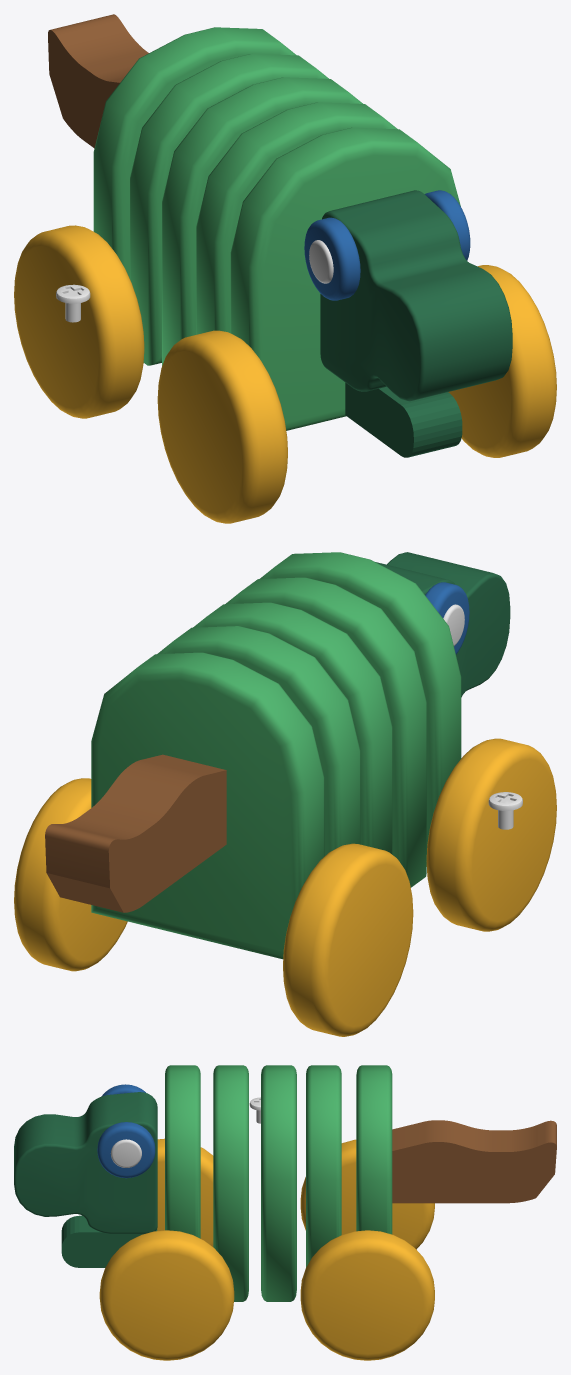
3 renders of one model, top to bottom at view 1: azimuth 30°, elevation 25°; view 2: azimuth 150°, elevation 25°; view 3: azimuth 270°, elevation 25°, orthographic. The views are drawn at different scales.
Visible parts, largest first — view 1: Cube.334, Cube.329, Cylinder.049, Cylinder.051, Cube.331, Cube.332, Cube.333, Cube.330, Cylinder.048, Cube.336, Cube.335, Cylinder.054 (+3 smaller); view 2: Cube.333, Cube.336, Cylinder.051, Cylinder.049, Cube.330, Cube.329, Cube.332, Cube.331, Cylinder.050, Cube.334, Cylinder.054, obj_screw; view 3: Cube.334, Cylinder.048, Cylinder.050, Cube.336, Cube.331, Cube.330, Cube.332, Cube.333, Cube.329, Cylinder.051, Cube.335, Cylinder.049 (+2 smaller).
Part boxes in pixels (x1,y1,x2,y2): Cube.334: (320, 190, 512, 401); Cube.329: (230, 127, 460, 430); Cylinder.049: (157, 330, 287, 523); Cylinder.051: (14, 225, 144, 418); Cube.331: (162, 77, 362, 365); Cube.332: (130, 53, 328, 365); Cube.333: (93, 27, 296, 278); Cube.330: (196, 102, 397, 334); Cylinder.048: (448, 265, 556, 457); Cube.336: (48, 14, 148, 148); Cube.335: (345, 382, 462, 457); Cylinder.054: (304, 217, 360, 300); Cube.333: (91, 652, 324, 959); Cube.336: (45, 754, 226, 912); Cylinder.051: (283, 843, 413, 1036); Cylinder.049: (426, 738, 556, 931); Cube.330: (225, 577, 426, 887); Cube.329: (260, 552, 461, 854); Cube.332: (157, 626, 360, 856); Cube.331: (193, 602, 392, 854); Cylinder.050: (14, 778, 127, 971); Cube.334: (375, 552, 510, 697); Cylinder.054: (425, 582, 469, 654); obj_screw: (488, 792, 522, 829); Cube.334: (14, 1092, 157, 1233); Cylinder.048: (99, 1230, 234, 1360); Cylinder.050: (300, 1230, 434, 1360); Cube.336: (392, 1120, 556, 1203); Cube.331: (261, 1065, 296, 1301); Cube.330: (213, 1065, 248, 1301); Cube.332: (306, 1065, 341, 1267); Cube.333: (356, 1065, 392, 1234); Cube.329: (165, 1065, 200, 1238); Cylinder.051: (300, 1139, 434, 1249); Cube.335: (61, 1215, 157, 1267); Cylinder.049: (157, 1138, 213, 1246).
Size of the model in its own units: 25.72 by 21.17 by 44.49.
